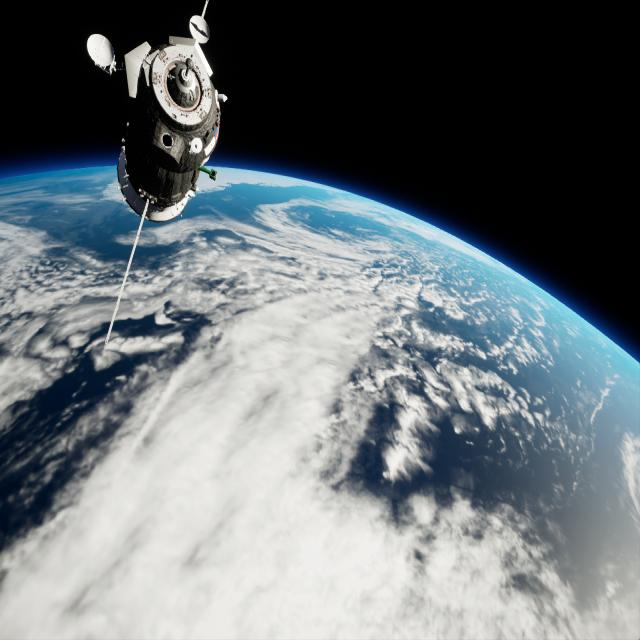Satellites revolving around earth: (84, 3, 230, 225)
